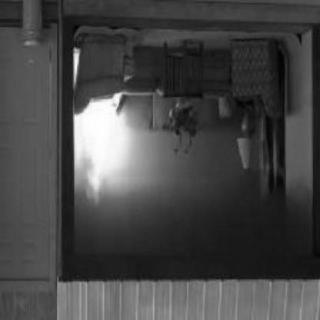Fire: (72, 97, 144, 199), (68, 44, 84, 86)
